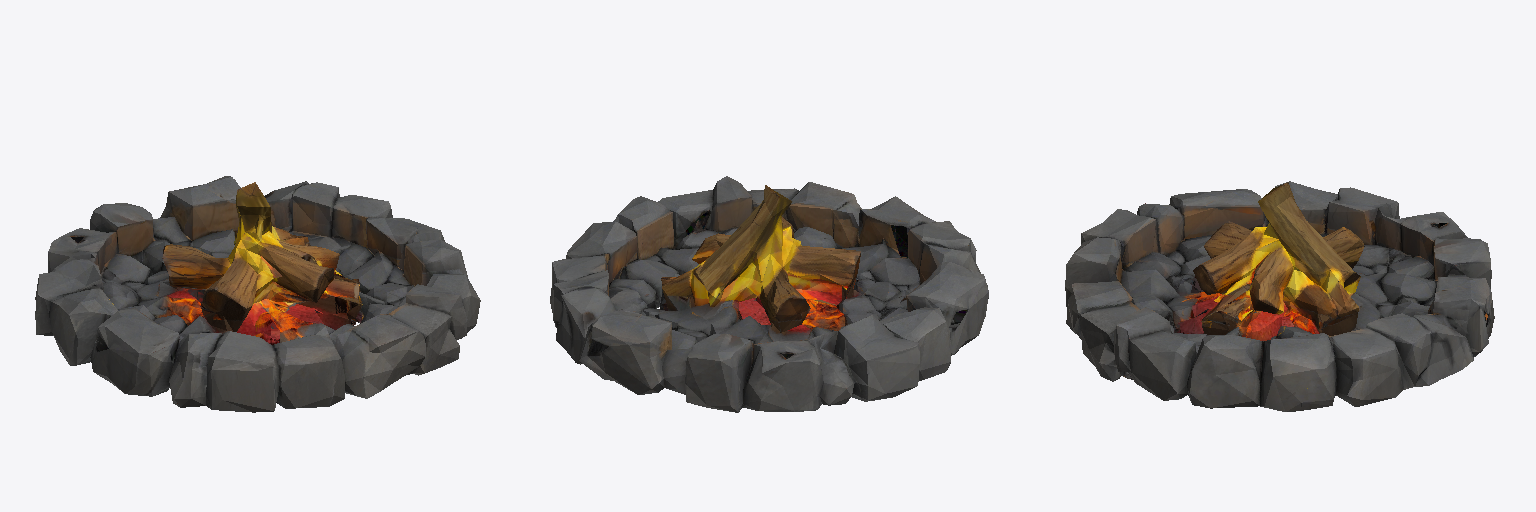
3 renders of one model, left to right at view 1: azimuth 30°, elevation 25°; view 2: azimuth 150°, elevation 25°; view 3: azimuth 270°, elevation 25°, orthographic.
Parts seen in each view (by area): view 1: model; view 2: model; view 3: model.
Boxes of the visible parts, <box> form: model: <box>35,176,480,412</box>; model: <box>550,176,988,412</box>; model: <box>1065,181,1494,411</box>.
Size of the model in its own units: 2 by 0.7446 by 2.
1 materials, 1 textured.